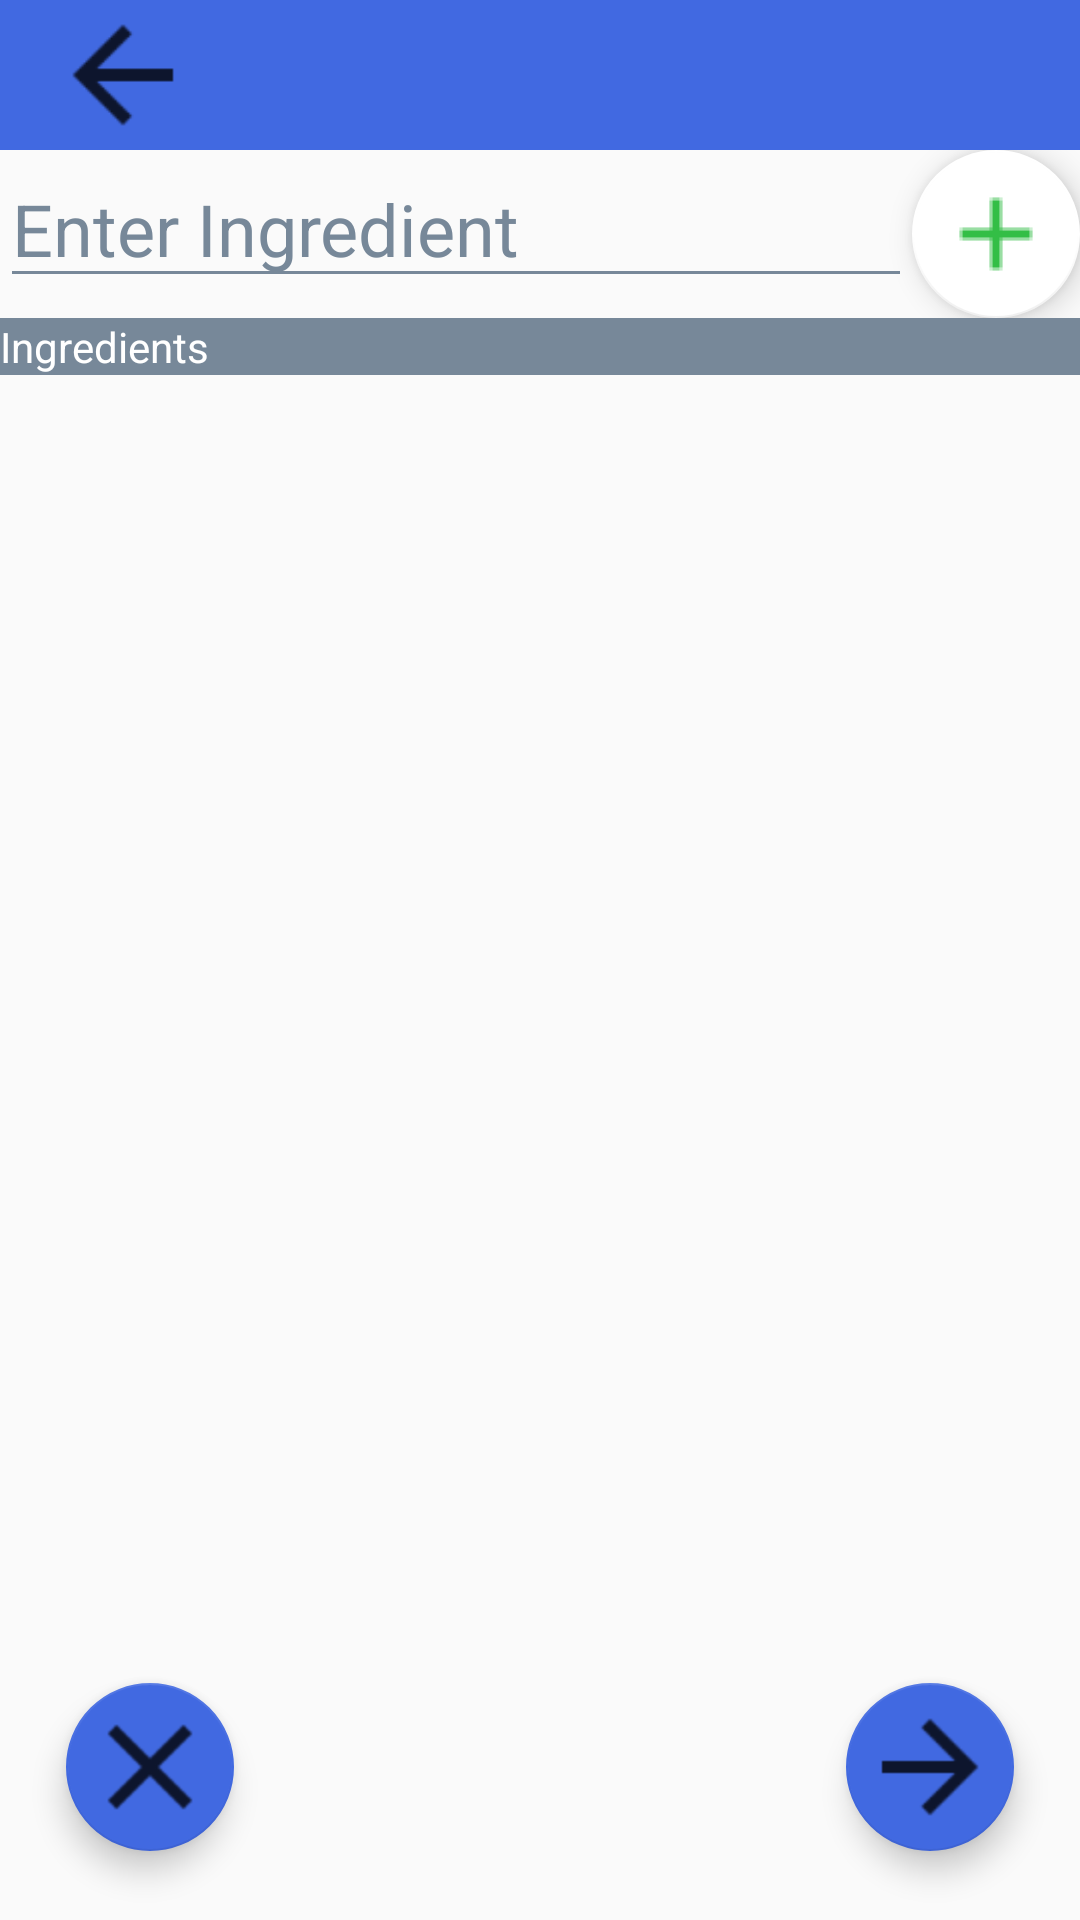

Named icons in this screenshot (1080×1920) and their centers, (x,y):
add: (996,234)
arrow back: (123,75)
arrow right: (930,1767)
cancel: (150,1767)
